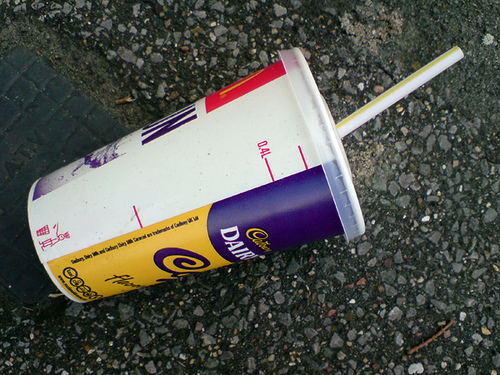litter: (28, 48, 365, 305), (368, 46, 464, 121)
